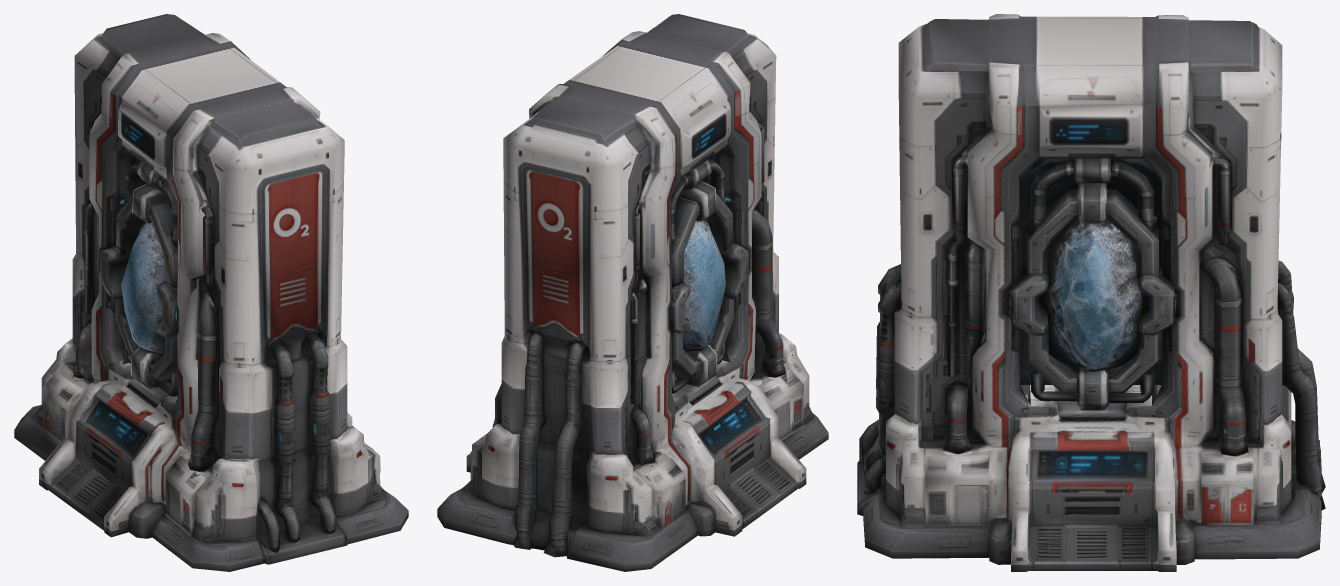
Rendered from oxygen+3d+model.fbx.
3 views of the same model, side by side, from view 1: azimuth 30°, elevation 25°; view 2: azimuth 150°, elevation 25°; view 3: azimuth 270°, elevation 25° (orthographic). The views are drawn at different scales.
Parts seen in each view (by area): view 1: meshes[0]; view 2: meshes[0]; view 3: meshes[0].
Boxes of the visible parts, box(x1,y1,x2,y2) form: meshes[0]: box(14, 14, 408, 571); meshes[0]: box(437, 14, 828, 571); meshes[0]: box(857, 14, 1325, 571).
Size of the model in its own units: 0.6934 by 0.998 by 0.9277.
